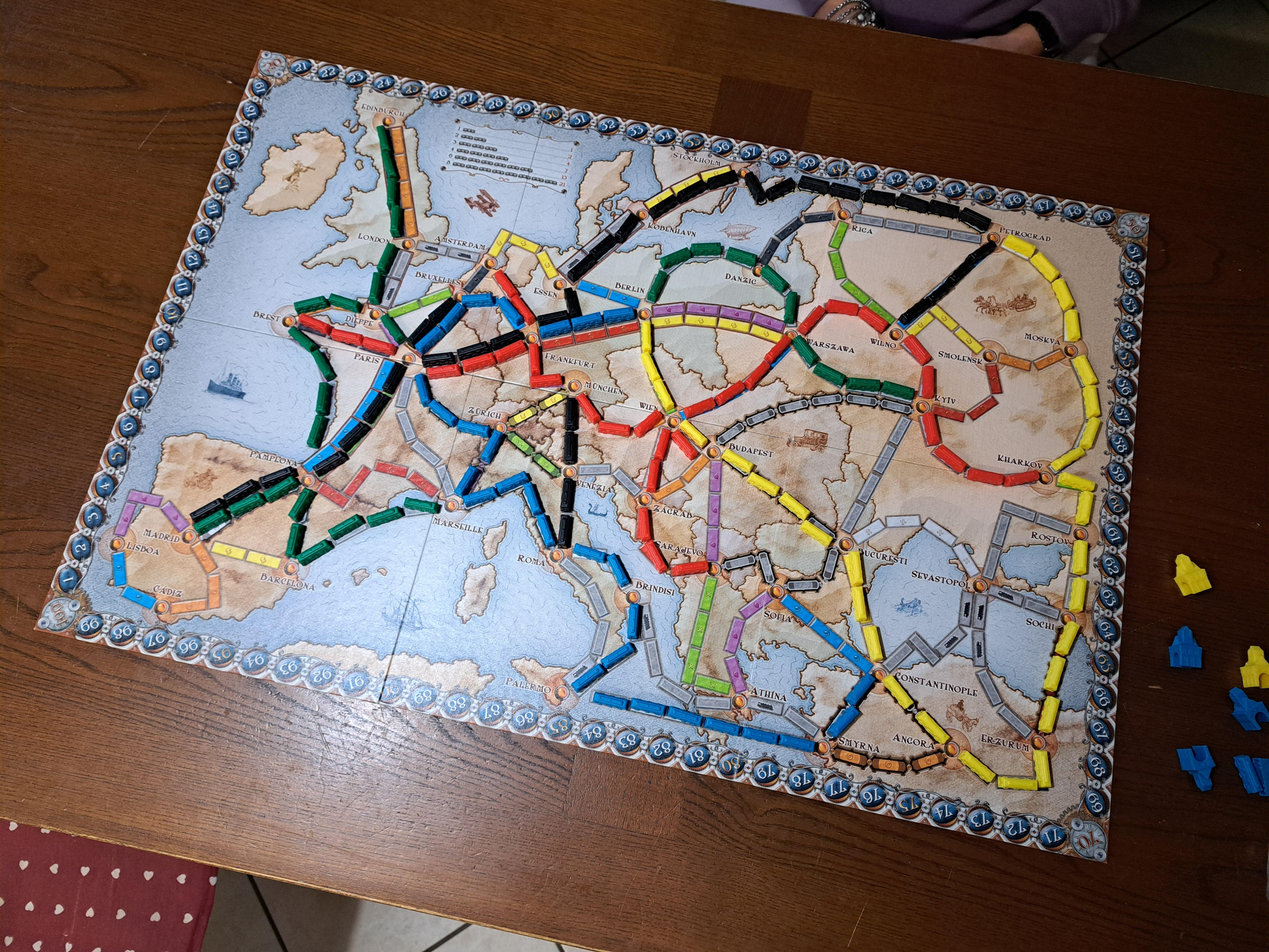corner_bl: (35, 591, 84, 636)
corner_br: (1067, 818, 1109, 863)
corner_tl: (253, 50, 291, 81)
corner_tr: (1116, 209, 1150, 241)
